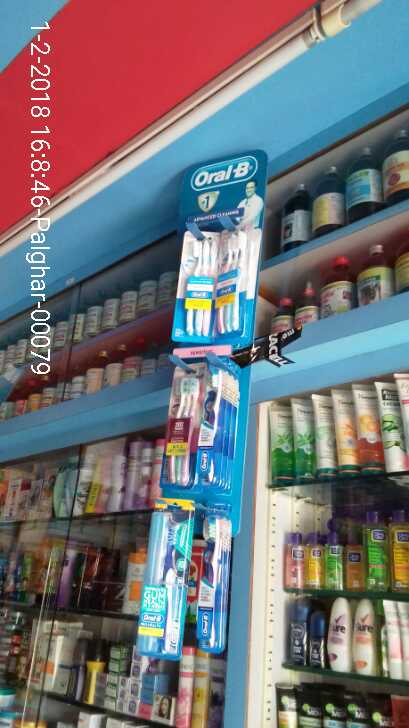oralb: (194, 359, 235, 492), (143, 514, 181, 650), (194, 514, 225, 647), (184, 230, 221, 339), (219, 233, 256, 341), (170, 365, 195, 487)
